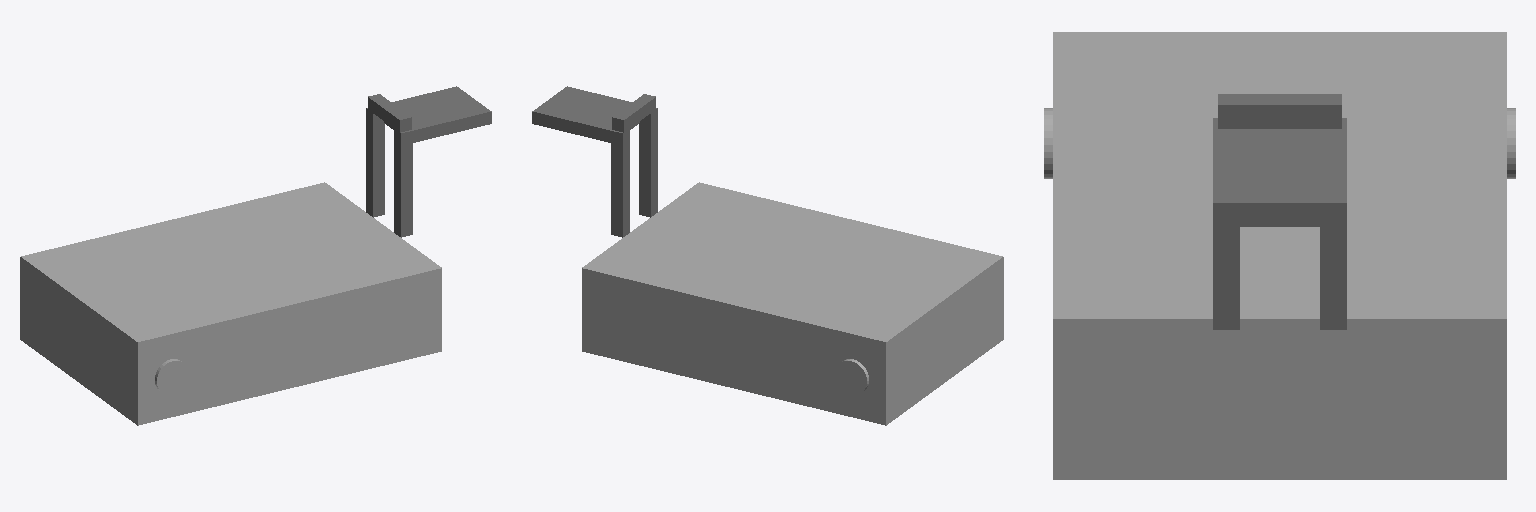
The robot description file, URDF, robot "buggy":
<?xml version="1.0"?>
<robot name="buggy" xmlns:xacro="http://ros.org/wiki/xacro">
    
    <!--material's colors-->
    <material name="chassis_mat">
       <color rgba="0.7 0.7 0.7 1"/>
    </material>
    <material name="tire_mat">
       <color rgba="1 0.5 0 1"/>
    </material> 
  
    <material name="zed2_mat">
      <color rgba="0.25 0.25 0.25 0.99"/>
    </material>
    
    <!--Links-->

    <link name="base_footprint"/>
    
     <link name="base_link">
      <visual>
      <origin xyz="0 0 0"/>
      <geometry>
        <box size="0.765 0.510 0.20"/>
      </geometry>
      <material name="chassis_mat"/>
      </visual>
     <collision>
      <origin xyz="0 0 0"/>
      <geometry>
        <box size="0.765 0.510 0.20"/>
      </geometry>
     </collision>
     </link>
    
    <link name='steering_wheel'/>
       

    <link name='front_left_wheel'>
        <visual name='visual'>
            <origin xyz="0 0 0" rpy="0 0 -3.141592" />
            <geometry>
                <mesh filename="package://buggy_mobile_robot/meshes/wheel_a.stl" scale="0.0032 0.0032 0.0032"/>
            </geometry>
           <material name="tire_mat"/>
        </visual>
        <collision name='collision'>
           <origin xyz="0.04 0 0" rpy="1.57079 0 1.57079" />
           <geometry>
                 <cylinder radius="0.14" length="0.11"/>
            </geometry>
        </collision>
    </link>
    
    <link name='front_right_wheel'>
        <visual name='visual'>
            <origin xyz="0 0 0" rpy="0 0 0" />
            <geometry>
                <mesh filename="package://buggy_mobile_robot/meshes/wheel_a.stl" scale="0.0032 0.0032 0.0032"/>
            </geometry>
            <material name="tire_mat"/>
        </visual>
        <collision name='collision'>
        <origin xyz="-0.04 0 0" rpy="1.57079 0 1.57079" />
            <geometry>
                <cylinder radius="0.14" length="0.11"/>
            </geometry>
        </collision>
    </link>
    
    <link name='rear_left_wheel'>
        <visual name='visual'>
            <origin xyz="0.02 0 0" rpy="0 0 -3.141592" />
            <geometry>
                <mesh filename="package://buggy_mobile_robot/meshes/wheel_a.stl" scale="0.0032 0.0032 0.0032"/>
            </geometry>
            <material name="tire_mat"/>
        </visual>
        <collision name='collision'>   
        <origin xyz="0.055 0 0" rpy="1.57079 0 1.57079" />
            <geometry>
                <cylinder radius="0.14" length="0.11"/>
            </geometry>
        </collision>
    </link>

    <link name='rear_right_wheel'>
        <visual name='visual'>
            <origin xyz="-0.02 0 0" rpy="0 0 0" />
            <geometry>
                <mesh filename="package://buggy_mobile_robot/meshes/wheel_a.stl" scale="0.0032 0.0032 0.0032"/>
            </geometry>
           <material name="tire_mat"/>
        </visual>
        <collision name='collision'>
         <origin xyz="-0.055 0 0" rpy="1.57079 0 1.57079" />
            <geometry>
               <cylinder radius="0.14" length="0.11"/>
            </geometry>
        </collision>
    </link>

    <link name='rear_axle'>
        <visual name='visual'>
            <origin xyz="0 0 0" rpy="1.57079 -0 1.57079" />
            <geometry>
                <cylinder radius="0.04" length="0.530" />
            </geometry>
            <material name="chassis_mat"/>
        </visual>
        <collision name='collision'>
            <origin xyz="0 0 0" rpy="1.57079 -0 1.57079" />
            <geometry>
                <cylinder radius="0.04" length="0.530" />
            </geometry>
        </collision>
    </link>

    <link name="base_camera_left">
        <visual>
            <origen rpy="1.57079 0 0" xyz=" 0 0 0" /> 
            <geometry>
               <box size="0.03 .03 .25"/>
            </geometry>
            <material name="chassis_mat">
               <color rgba="0.5 0.5 0.5 1"/>
            </material>
        </visual>
    <!--<collision>
      <geometry>
        <box size="0.03 0.03 0.460"/>
      </geometry>
      <origin rpy="1.57075 0 0" xyz="0 0 0"/>
    </collision>-->
    </link>

     <link name="base_camera_center">
        <visual>
            <origen rpy="0 0 0" xyz=" 0 0 0" /> 
            <geometry>
               <box size="0.03 .14 .03"/>
            </geometry>
            <material name="chassis_mat">
               <color rgba="0.5 0.5 0.5 1"/>
            </material>
        </visual>
    <!--<collision>
      <geometry>
        <box size="0.03 0.03 0.460"/>
      </geometry>
      <origin rpy="1.57075 0 0" xyz="0 0 0"/>
    </collision>-->
    </link>
    
     <link name="base_camera_right">
         <visual>
            <origen rpy="1.57079 0 0" xyz=" 0 0 0" /> 
            <geometry>
               <box size="0.03 .03 .25"/>
            </geometry>
            <material name="chassis_mat">
               <color rgba="0.5 0.5 0.5 1"/>
            </material>
         </visual>
    <!--<collision>
      <geometry>
        <box size="0.03 0.03 0.460"/>
      </geometry>
      <origin rpy="1.57075 0 0" xyz="0 0 0"/>
    </collision>-->
    </link>
    
    <link name="base_velodyne">
        <visual>
           <origen rpy="0 0 0" xyz=" 0 0 0" /> 
           <geometry>
               <box size="0.20 .15 .03"/>
           </geometry> 
          <material name="chassis_mat">
               <color rgba="0.5 0.5 0.5 1"/>
          </material>
        </visual>
    <collision>
     <origin rpy="0 0 0" xyz="0 0 0"/>
      <geometry>
        <box size="0.20 0.15 0.03"/>
      </geometry>
    </collision>
    </link>

   <link name="velodyne_link">
   <collision>
    <origin xyz="0 0 -0.033" rpy="0 0 0" />
    <geometry>
        <mesh filename="package://buggy_mobile_robot/meshes/VLP16_scan.stl" />
    </geometry>   
  </collision>
  <visual>
   <origin xyz="0 0 -0.033" rpy="0 0 0" />
   <geometry>
     <mesh filename="package://buggy_mobile_robot/meshes/VLP16_scan.dae" />   
   </geometry>
  </visual>
 </link>
 
  <link name="laser">
      <visual>
      <origin xyz="-0.05 0 -0.02" rpy="0 0 0" />
        <geometry>  
          <mesh filename="package://buggy_mobile_robot/meshes/LMS1xx_small.dae" />
        </geometry>
      </visual>
      <collision>
      <origin xyz="-0.05 0 -0.02" rpy="0 0 0" />
        <geometry>
           <mesh filename="package://buggy_mobile_robot/meshes/LMS1xx_collision.stl" />
        </geometry>
      </collision>
 </link>

    <link name='imu_link'>
        <visual name='visual'>
            <geometry>
                <cylinder radius="0.001" length="0.011" />
            </geometry>
            <material name="Red">
                <color rgba="1.0 0 0 0.6" />
            </material>
        </visual>
        <collision name='collision'>
            <geometry>
                <cylinder radius="0.001" length="0.011" />
            </geometry>
        </collision>
    </link>

<!--Zed Camera link-->    

  <link name="zed2_camera_center">   
    <visual>
      <origin xyz="0 0 0" rpy="0 0 0"/>
      <geometry>
        <mesh filename="package://buggy_mobile_robot/meshes/zed2.stl" />
      </geometry>
      <material name="zed2_mat">
        <color rgba="0.8 0.8 0.8 0.8"/>
      </material>
    </visual>
     <collision>
      <geometry>
        <box size="0.03 0.17 0.03"/>
      </geometry>
      <origin rpy="0 0 0" xyz="0 0 0"/>
    </collision>
  </link>

<!-- Left Camera -->

    <link name="zed2_left_camera_frame" />

    <link name="zed2_left_camera_optical_frame"/>

<!-- Right Camera -->
   
    <link name="zed2_right_camera_frame" />

    <link name="zed2_right_camera_optical_frame"/>
 
  <!--Joints-->  
  
    <joint name='base_footprint_joint' type='fixed'>
      <parent link="base_footprint"/>
      <child link="base_link"/>
      <origin rpy="0 0 0" xyz=" 0 0 0.1"/>
    </joint>
    
    <joint name='front_left_combined_joint' type='continuous'>
      <parent link="base_link" />
      <child link="front_left_wheel" />
      <origin xyz="0.3825 0.345 0.01" rpy="0 0 1.57079" />
      <axis xyz="0 0 1" />
    </joint>

    <joint name='front_right_combined_joint' type='continuous'>
      <parent link="base_link" />
      <child link="front_right_wheel" />
      <origin xyz="0.3825 -0.345 0.01" rpy="0 0 1.57079" />
      <axis xyz="0 0 1" />
    </joint>

    <joint name='rear_axle_joint' type='continuous'>
      <parent link="base_link" />
      <child link="rear_axle" />
      <origin xyz="-0.30 0 0" rpy="0 0 1.5707" />
      <dynamics damping="2000.0" friction="0.0" />
      <limit effort="0" velocity="0.0" lower="-0.05" upper="0.05" />
      <axis xyz="0 1 0" />
    </joint>

    <joint name='rear_left_joint' type='continuous'>
      <parent link="base_link" />
      <child link="rear_left_wheel" />
      <origin xyz="-0.30 0.29 0.01" rpy="0 -0 1.57079" />
      <axis xyz="1 0 0" />
    </joint>

    <joint name='rear_right_joint' type='continuous'>
      <parent link="base_link" />
      <child link="rear_right_wheel" />
      <origin xyz="-0.30 -0.29 0.01" rpy="0 -0 1.57079" />
      <axis xyz="1 0 0" />
    </joint>

    <joint name='steering_joint' type='continuous'>
      <parent link="base_link" />
      <child link="steering_wheel" />
      <origin xyz="0.400132 9.3e-05 0.399996" rpy="0 -1.5707 0" />
      <axis xyz="0 0 1" />
    </joint>
   
    <joint name="imu_joint" type="fixed">
      <parent link="base_link" />
      <child link="imu_link" />
    </joint>
    
    <joint name="base_to_camera_base_right" type="fixed">
      <parent link="base_link"/>
      <child link="base_camera_right"/>
      <origin rpy="0 0 0" xyz=" 0.3975 -0.06 0.225"/>
    </joint>  
  
    <joint name="base_to_camera_base_left" type="fixed">
      <parent link="base_link"/>
      <child link="base_camera_left"/>
      <origin rpy="0 0 0" xyz=" 0.3975 .06 0.225"/>
    </joint>  

    <joint name="base_to_camera_center" type="fixed">
      <parent link="base_link"/>
      <child link="base_camera_center"/>
      <origin rpy="0 0 0" xyz=" 0.3975 0 0.365"/>
    </joint>  

     <joint name="base_to_velodyne_link" type="fixed">
      <parent link="base_link"/>
      <child link="velodyne_link"/>
      <origin rpy="0 0 0" xyz="0.3975 0 0.40"/>
     </joint>
  
     <joint name="chassis_to_base_sick" type="fixed">
      <parent link="base_link"/>
      <child link="base_velodyne"/>
      <origin rpy="0 0 0" xyz="0.51 0 0.335"/>
     </joint>
   
     <joint name="sick_joint" type="fixed">
      <parent link="base_link" />
      <child link="laser" />
      <origin rpy="0 0 0" xyz="0.61 0 0.23"/>
    </joint>

    <joint name="zed2_right_camera_optical_joint" type="fixed">
      <origin xyz="0 0 0" rpy="-1.57079 0.0 -1.57079"/>
      <parent link="zed2_right_camera_frame"/>
      <child link="zed2_right_camera_optical_frame"/>
    </joint> 

    <joint name="zed2_right_camera_joint" type="fixed">
      <parent link="zed2_camera_center"/>
      <child link="zed2_right_camera_frame"/>
      <origin xyz="0 -0.06 0" rpy="0 0 0" />
    </joint> 

    <joint name="zed2_left_camera_optical_joint" type="fixed">
      <origin xyz="0 0 0" rpy="-1.57079 0.0 -1.57079"/>
      <parent link="zed2_left_camera_frame"/>
      <child link="zed2_left_camera_optical_frame"/>
    </joint>

     <joint name="zed2_left_camera_joint" type="fixed">
      <parent link="zed2_camera_center"/>
      <child link="zed2_left_camera_frame"/>
      <origin xyz="0 0.06 0" rpy="0 0 0" />
    </joint>

    <joint name="zed2_camera_center_joint" type="fixed">
      <parent link="base_link"/>
      <child link="zed2_camera_center"/>
      <origin xyz="0.60 0 0.365" rpy=" 0 0 0" />
    </joint>

</robot>

--- Facts derived from the render (not from the file) ---
Views: 3 orthographic renders of the robot side by side, from view 1: azimuth 30°, elevation 25°; view 2: azimuth 150°, elevation 25°; view 3: azimuth 270°, elevation 25°.
Model buggy with 20 links and 19 joints (6 continuous, 13 fixed), rooted at base_footprint, posed all joints at 0.
Links seen in each view (by area): view 1: base_link, base_velodyne, base_camera_right, base_camera_left, rear_axle, base_camera_center; view 2: base_link, base_velodyne, base_camera_left, base_camera_right, rear_axle, base_camera_center; view 3: base_link, base_velodyne, base_camera_center, base_camera_right, base_camera_left, rear_axle.
Boxes of the visible links, x1,y1,x2,y2 form: base_link: (20,182,441,425); base_velodyne: (384,86,491,142); base_camera_right: (394,129,412,237); base_camera_left: (366,108,384,217); rear_axle: (155,359,188,394); base_camera_center: (368,94,411,132); base_link: (582,182,1003,425); base_velodyne: (532,86,639,142); base_camera_left: (611,129,629,237); base_camera_right: (639,108,657,217); rear_axle: (835,359,868,394); base_camera_center: (612,94,655,132); base_link: (1053,32,1506,479); base_velodyne: (1213,128,1346,226); base_camera_center: (1218,94,1341,128); base_camera_right: (1213,118,1239,329); base_camera_left: (1320,118,1346,329); rear_axle: (1044,108,1515,178).
Bounding box of the posed robot: 0.9925 × 0.53 × 0.48 m (x, y, z).
Meshes: 4 distinct files referenced, 0 mesh visuals loaded (none loaded); not drawn: 7 (reference not matched to a file when rendering).